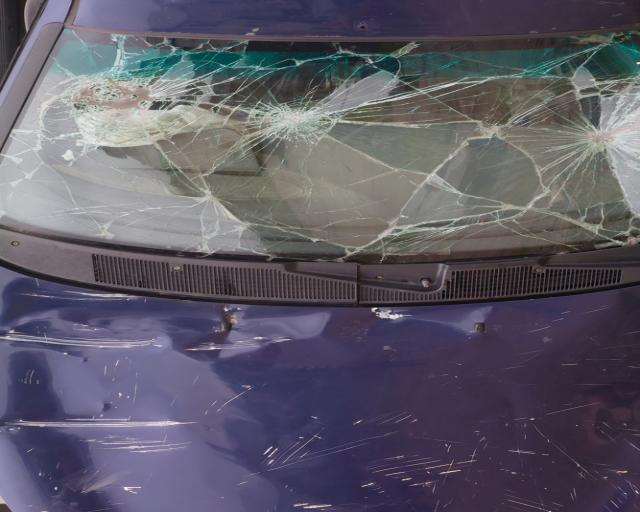dent: (0, 275, 489, 512)
glass shatter: (0, 29, 640, 265)
scratch: (258, 305, 640, 512)
